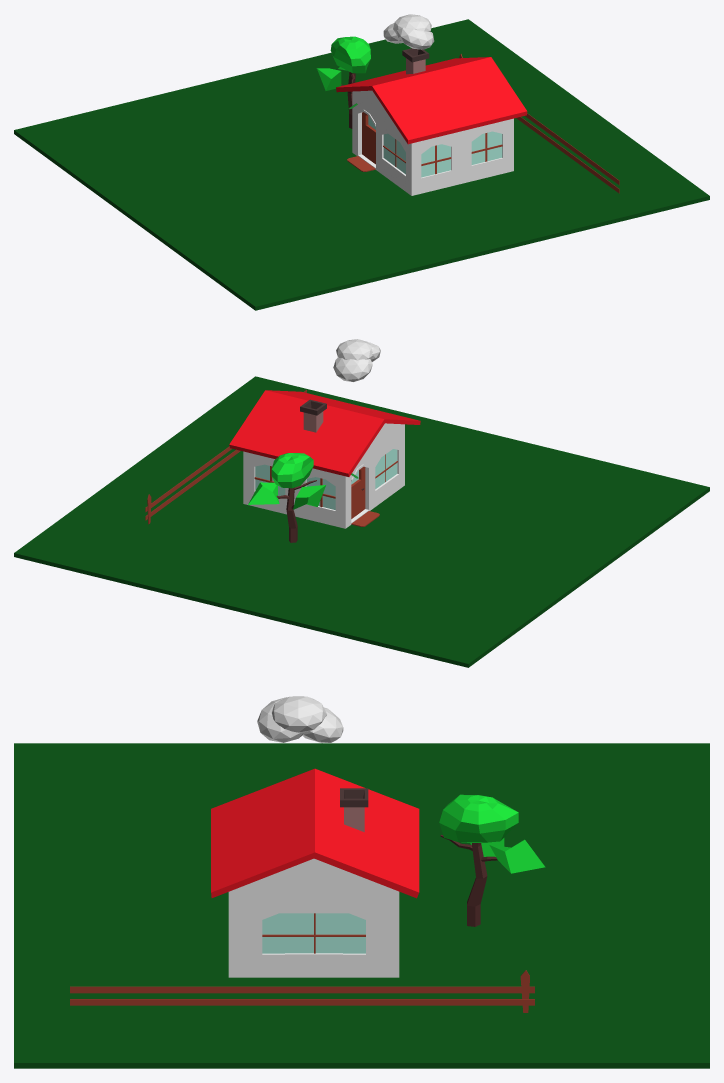
Rendered from house.gltf.
3 views of the same model, one above another, from view 1: azimuth 30°, elevation 25°; view 2: azimuth 150°, elevation 25°; view 3: azimuth 270°, elevation 25° (orthographic). The views are drawn at different scales.
Visible parts, largest first — view 1: Cube.004, Wirklich das dach, Haus, Fenster, Blätter, Icosphere.001, Haus.001, Cube.002, Icosphere, Cube.001; view 2: Cube.004, Wirklich das dach, Haus, Fenster, Blätter, Icosphere.002, Icosphere, Haus.001, Blätter 3, Blätter 2; view 3: Cube.004, Wirklich das dach, Haus, Fenster, Cube.001, Cube.002, Blätter, Icosphere, Blätter 3, Stamm, Icosphere.001, Icosphere.002.
Boxes of the visible parts, x1,y1,x2,y2 form: Cube.004: (14,19,709,310); Wirklich das dach: (336,57,527,144); Haus: (352,90,513,195); Fenster: (368,115,502,177); Blätter: (330,36,370,73); Icosphere.001: (397,27,434,49); Haus.001: (362,112,375,164); Cube.002: (516,117,619,193); Icosphere: (393,14,431,35); Cube.001: (525,113,619,184); Cube.004: (14,376,709,667); Wirklich das dach: (229,390,420,476); Haus: (243,423,404,528); Fenster: (255,449,397,509); Blätter: (271,453,313,488); Icosphere.002: (333,357,372,381); Icosphere: (336,339,372,360); Haus.001: (351,466,365,518); Blätter 3: (248,482,279,504); Blätter 2: (293,485,325,509); Cube.004: (14,743,709,1068); Wirklich das dach: (211,768,419,898); Haus: (228,858,399,977); Fenster: (262,913,365,953); Cube.001: (70,986,534,993); Cube.002: (70,999,534,1005); Blätter: (439,794,518,842); Icosphere: (272,696,326,732); Blätter 3: (489,839,545,873); Stamm: (467,843,487,926); Icosphere.001: (257,697,303,742); Icosphere.002: (302,707,343,743).
Bounding box in the file's own units: 29.93 × 10.02 × 27.55.
